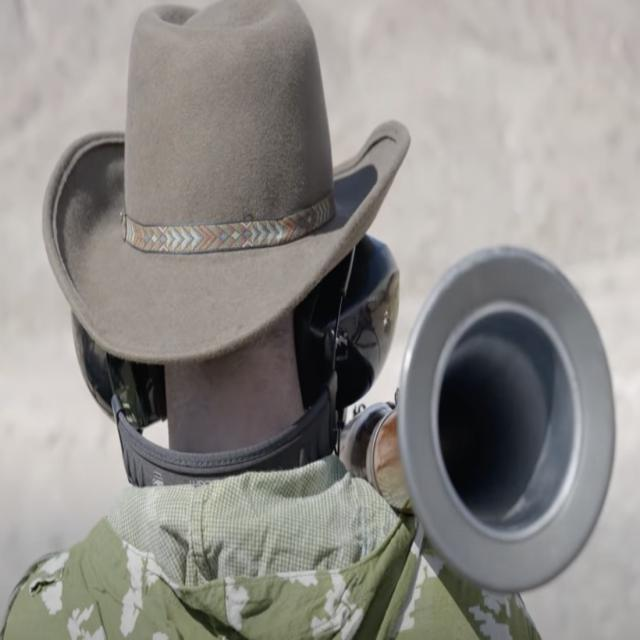bazooka: (330, 221, 627, 635)
